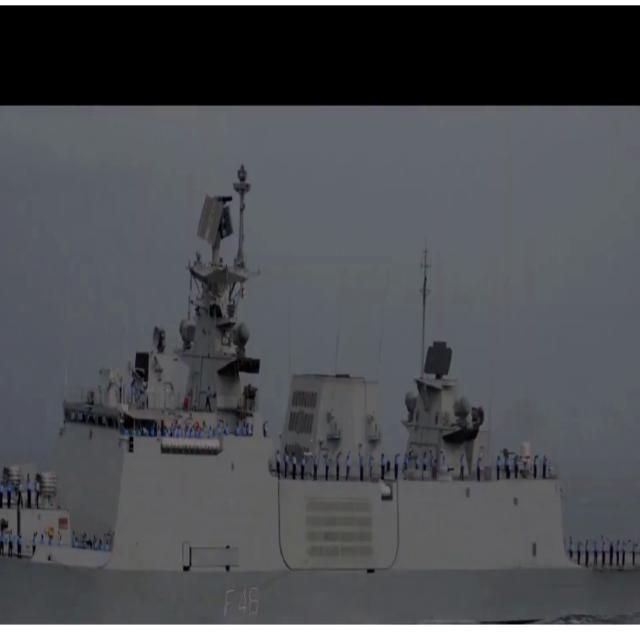OCR: (224, 586, 276, 623)
